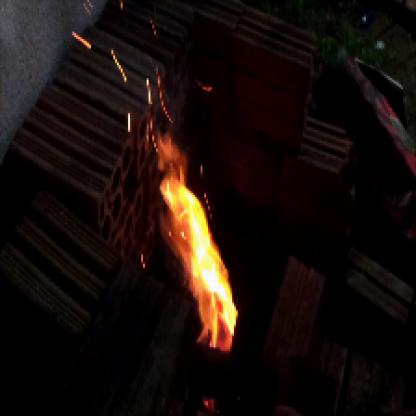Fire: (134, 76, 240, 355)
